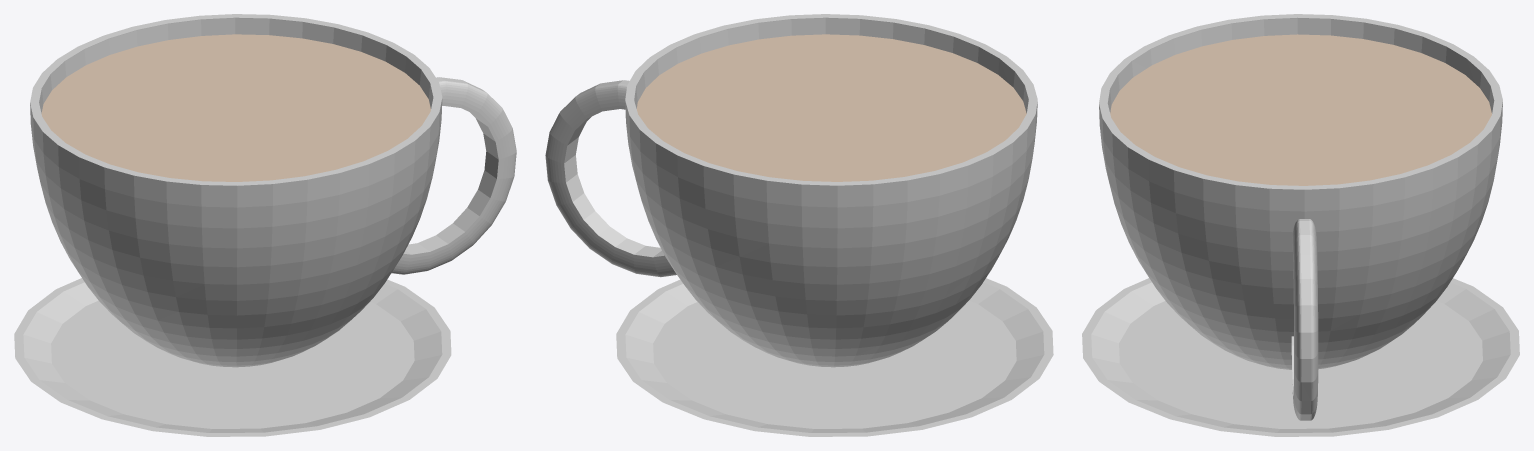
File: TMG CUP 2.glb
The picture shows the model from 3 angles, left to right: view 1: azimuth 30°, elevation 25°; view 2: azimuth 150°, elevation 25°; view 3: azimuth 270°, elevation 25°; orthographic projection.
Parts seen in each view (by area): view 1: Mesh_Mesh_head_geo.001_lambert2SG.001; view 2: Mesh_Mesh_head_geo.001_lambert2SG.001; view 3: Mesh_Mesh_head_geo.001_lambert2SG.001.
Part boxes in pixels (x1,y1,x2,y2): Mesh_Mesh_head_geo.001_lambert2SG.001: (14, 14, 516, 436); Mesh_Mesh_head_geo.001_lambert2SG.001: (545, 14, 1053, 436); Mesh_Mesh_head_geo.001_lambert2SG.001: (1082, 14, 1519, 436).
Bounding box in the file's own units: 52.82 × 27 × 42.26.
